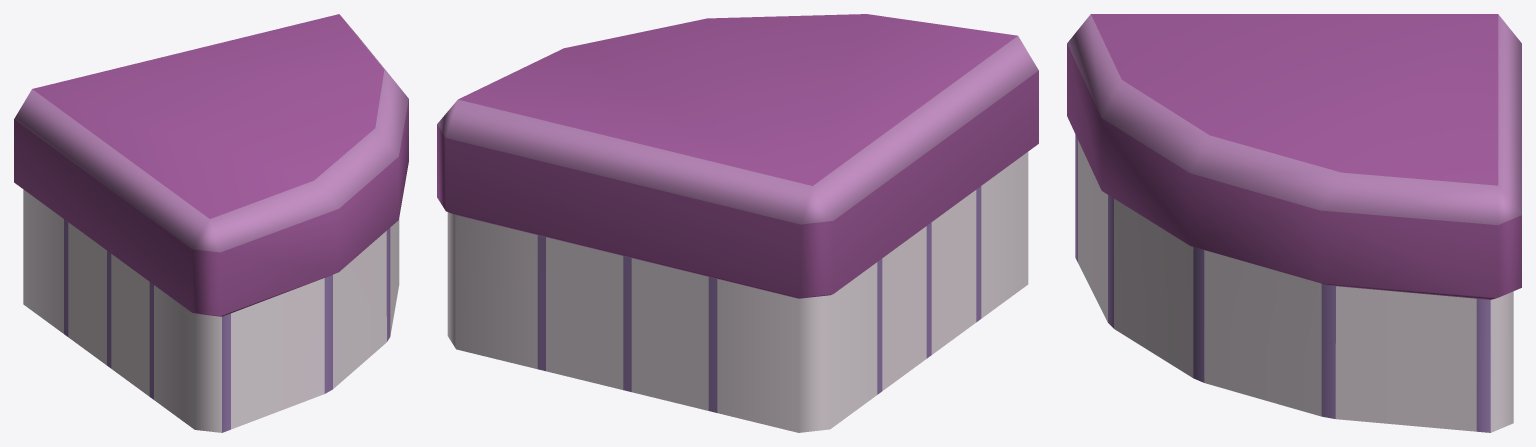
Rendered from Decor_Banbar_A_02.fbx.
3 renders of one model, left to right at view 1: azimuth 30°, elevation 25°; view 2: azimuth 150°, elevation 25°; view 3: azimuth 270°, elevation 25°, orthographic. The views are drawn at different scales.
Parts seen in each view (by area): view 1: Decor_Banbar_A_02; view 2: Decor_Banbar_A_02; view 3: Decor_Banbar_A_02.
Part boxes in pixels (box(x1,y1,x2,y2)): Decor_Banbar_A_02: box(14, 14, 408, 432); Decor_Banbar_A_02: box(437, 14, 1038, 432); Decor_Banbar_A_02: box(1067, 14, 1521, 432).
Bounding box in the file's own units: 129 × 75.52 × 129.
